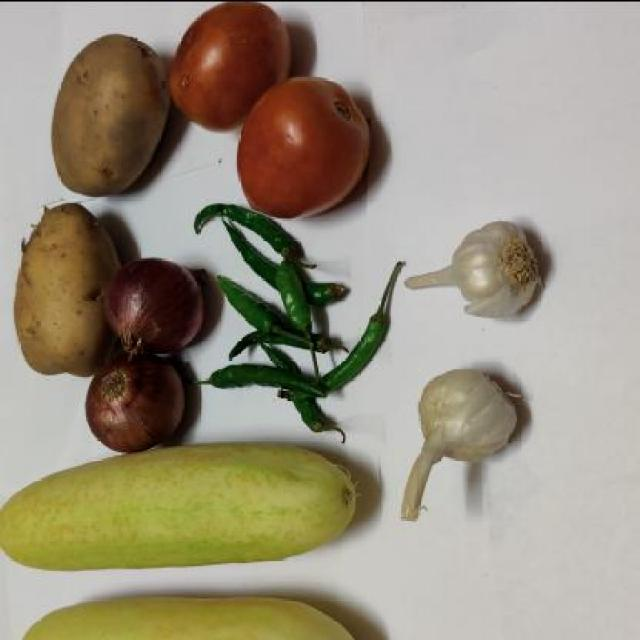Pepper: (220, 217, 389, 428)
garlic: (394, 345, 532, 533), (390, 210, 550, 315)
onion: (72, 346, 192, 442), (108, 247, 203, 351)
potato: (48, 7, 168, 204), (7, 198, 124, 372)
tomato: (230, 68, 384, 228), (162, 0, 288, 120)
